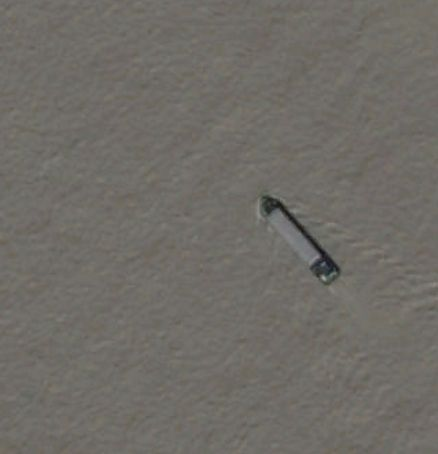boat: (255, 190, 340, 286)
